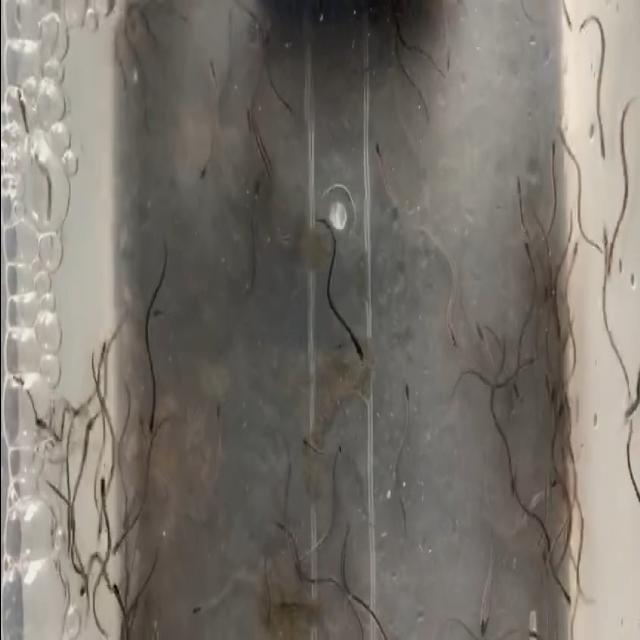active_glass_eel: (334, 314, 354, 359), (600, 66, 614, 130), (22, 101, 41, 146), (472, 593, 490, 640), (565, 265, 577, 329), (87, 344, 104, 388), (446, 300, 462, 345), (205, 418, 219, 468), (301, 532, 320, 568), (281, 588, 298, 626), (399, 396, 413, 441), (122, 525, 134, 577), (550, 320, 564, 364), (315, 434, 337, 462), (570, 542, 582, 592), (523, 252, 535, 302), (486, 562, 504, 594), (604, 318, 618, 358), (542, 468, 558, 503), (384, 162, 400, 197), (138, 348, 152, 388), (118, 494, 132, 534), (318, 343, 336, 373), (556, 434, 568, 478), (615, 198, 628, 238), (188, 588, 209, 612), (151, 460, 165, 496), (96, 484, 108, 526), (29, 396, 46, 424), (71, 484, 81, 530), (538, 234, 548, 278), (558, 398, 568, 438), (571, 174, 581, 212), (548, 165, 558, 202), (76, 550, 92, 572), (549, 552, 563, 576), (282, 493, 292, 525), (109, 571, 118, 604)
